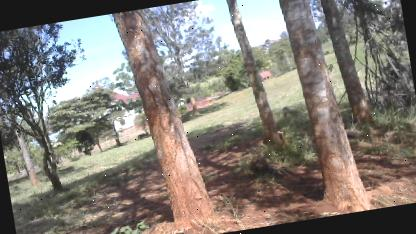tree: (109, 1, 225, 234), (272, 0, 375, 219), (0, 19, 105, 200), (221, 0, 289, 151), (40, 84, 128, 164)
